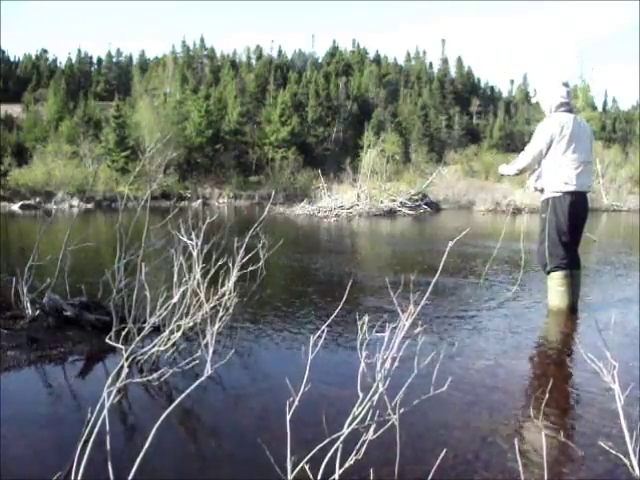person: (498, 81, 593, 313)
